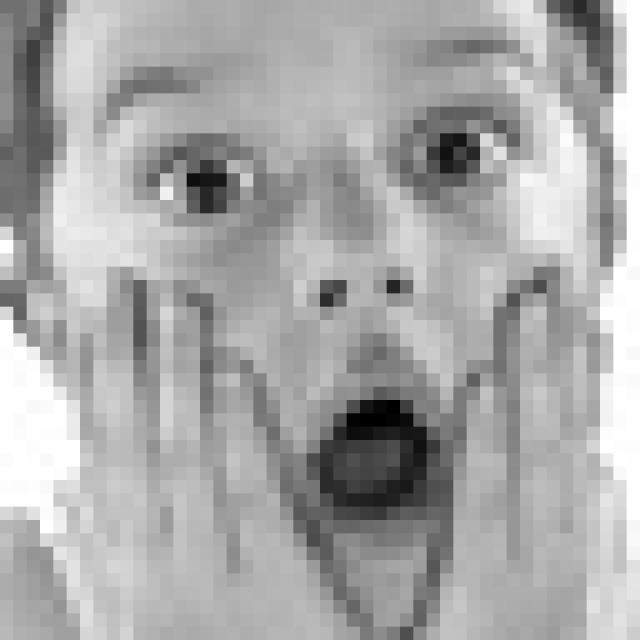surprise: (81, 18, 558, 540)
